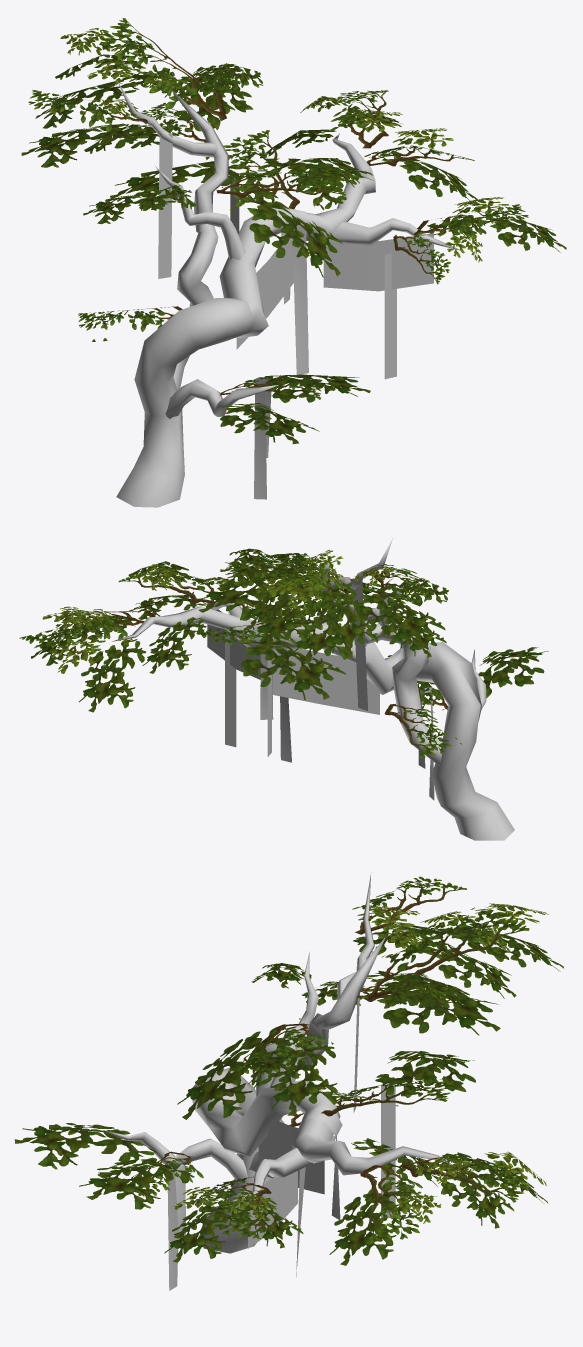
Rendered from environment_Tree_fuyushan_001_b.FBX.
3 renders of one model, top to bottom at view 1: azimuth 30°, elevation 25°; view 2: azimuth 150°, elevation 25°; view 3: azimuth 270°, elevation 25°, orthographic. The views are drawn at different scales.
Parts seen in each view (by area): view 1: environment_Tree_fuyushan_001_b03, environment_Tree_fuyushan_001_b05, environment_Tree_fuyushan_001_b04, environment_Tree_fuyushan_001_b02, environment_Tree_fuyushan_001_b01; view 2: environment_Tree_fuyushan_001_b03, environment_Tree_fuyushan_001_b05, environment_Tree_fuyushan_001_b02, environment_Tree_fuyushan_001_b04, environment_Tree_fuyushan_001_b01; view 3: environment_Tree_fuyushan_001_b03, environment_Tree_fuyushan_001_b05, environment_Tree_fuyushan_001_b01, environment_Tree_fuyushan_001_b04, environment_Tree_fuyushan_001_b02.
Boxes of the visible parts, x1=… form: environment_Tree_fuyushan_001_b03: x1=21, y1=18, x2=566, y2=444; environment_Tree_fuyushan_001_b05: x1=116, y1=88, x2=375, y2=507; environment_Tree_fuyushan_001_b04: x1=158, y1=133, x2=396, y2=499; environment_Tree_fuyushan_001_b02: x1=236, y1=233, x2=433, y2=349; environment_Tree_fuyushan_001_b01: x1=117, y1=80, x2=460, y2=418; environment_Tree_fuyushan_001_b03: x1=19, y1=548, x2=548, y2=758; environment_Tree_fuyushan_001_b05: x1=112, y1=555, x2=514, y2=840; environment_Tree_fuyushan_001_b02: x1=207, y1=602, x2=379, y2=714; environment_Tree_fuyushan_001_b04: x1=225, y1=578, x2=434, y2=800; environment_Tree_fuyushan_001_b01: x1=210, y1=537, x2=486, y2=709; environment_Tree_fuyushan_001_b03: x1=14, y1=876, x2=563, y2=1265; environment_Tree_fuyushan_001_b05: x1=192, y1=937, x2=455, y2=1253; environment_Tree_fuyushan_001_b01: x1=104, y1=872, x2=374, y2=1208; environment_Tree_fuyushan_001_b04: x1=167, y1=963, x2=395, y2=1290; environment_Tree_fuyushan_001_b02: x1=248, y1=1118, x2=324, y2=1248.
Size of the model in its own units: 995 by 979 by 759.
